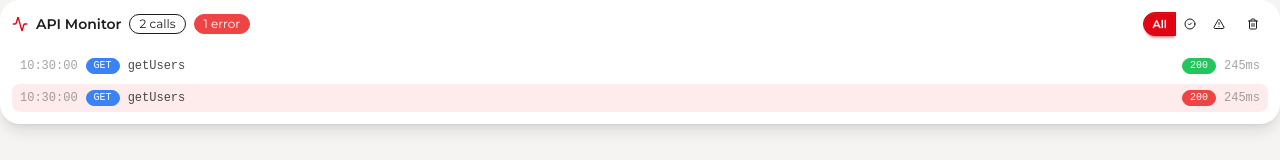
Test: ApiMonitorPanel › should show all entries when all filter clicked
This screenshot has width=1280, height=160.
Note: First filter to errors only
What coordinates should you click on to do the following:
click the button with test id "filter-error"
I would click on:
 (1219, 24)
Its box is x1=1204 y1=12 x2=1234 y2=36.
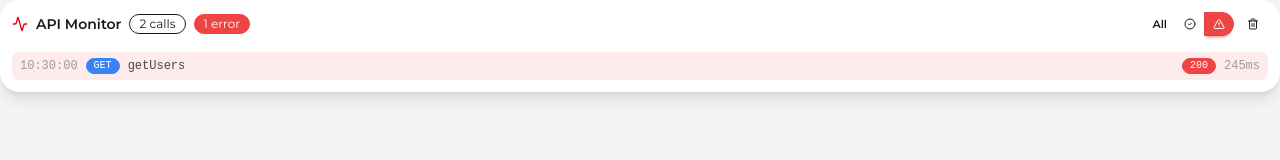
expect the button with test id "log-entry-call-1" is gone: met
Note: Then click All
What coordinates should you click on to do the following:
click the button with test id "filter-all"
I would click on:
 (1160, 24)
Its box is x1=1143 y1=12 x2=1176 y2=36.
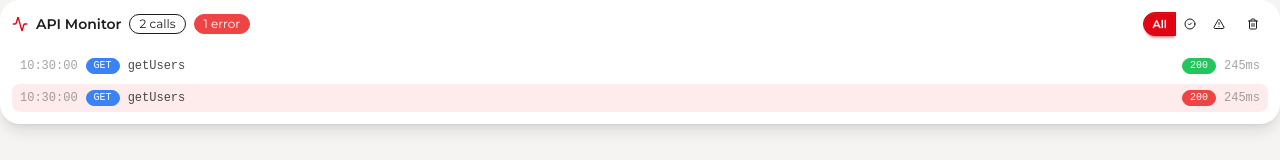
expect the button with test id "log-entry-call-2" is shown: met, box x1=12 y1=84 x2=1268 y2=112
expect the button with test id "log-entry-call-1" is shown: met, box x1=12 y1=52 x2=1268 y2=80
